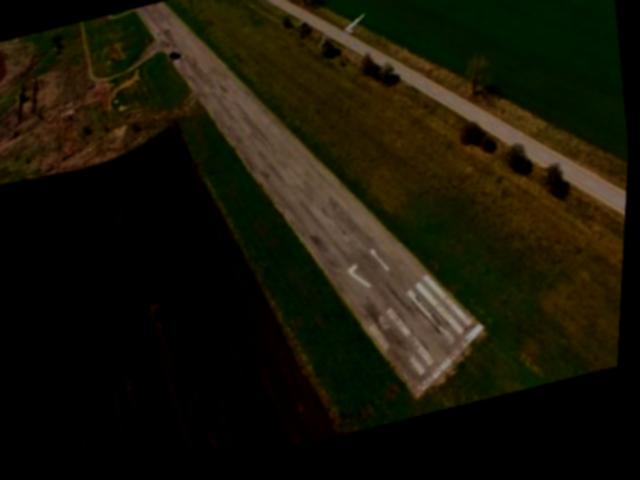uav: (340, 14, 374, 48)
